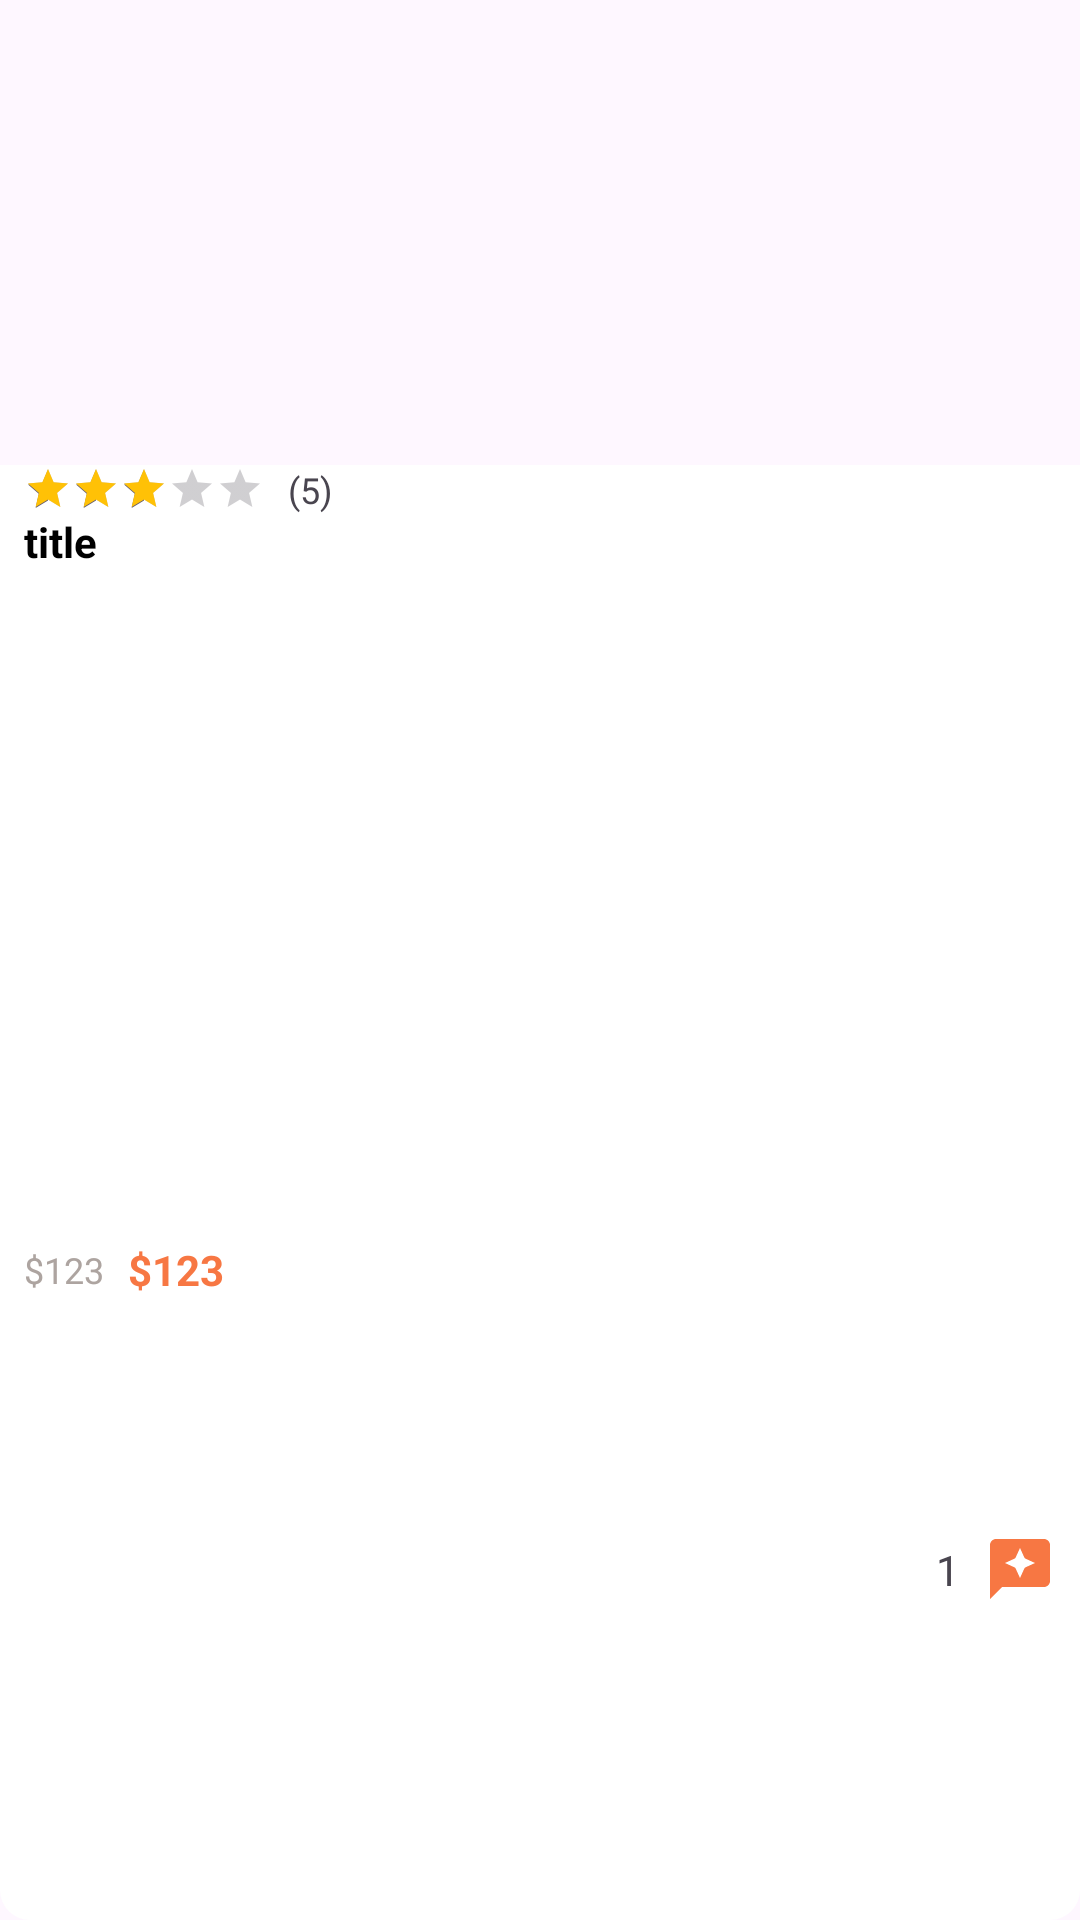

Where icons sit on this 1080 x 1920 app screen, as (x1, y1, x2, y2):
reviews: (990, 1539, 1050, 1599)
